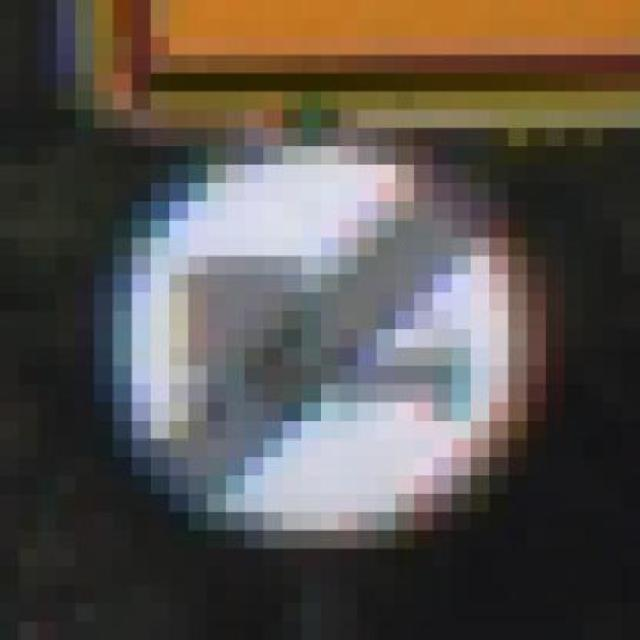Overtaking by trucks is prohibited: (75, 146, 602, 603)
